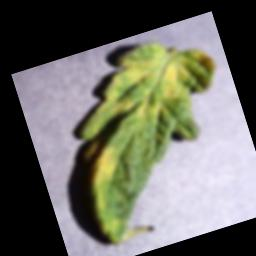Leaf_Mold: (51, 25, 256, 246)
